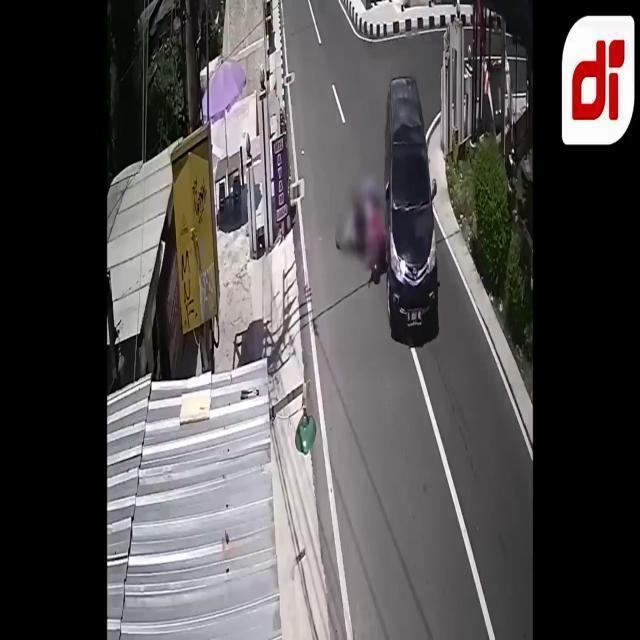accident: (338, 79, 442, 344)
